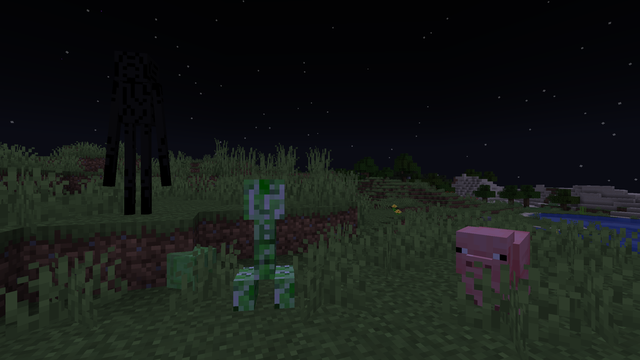cochons: (445, 224, 556, 319)
creepers: (241, 173, 292, 315)
endermens: (111, 42, 161, 216)
slimes: (170, 244, 210, 291)
